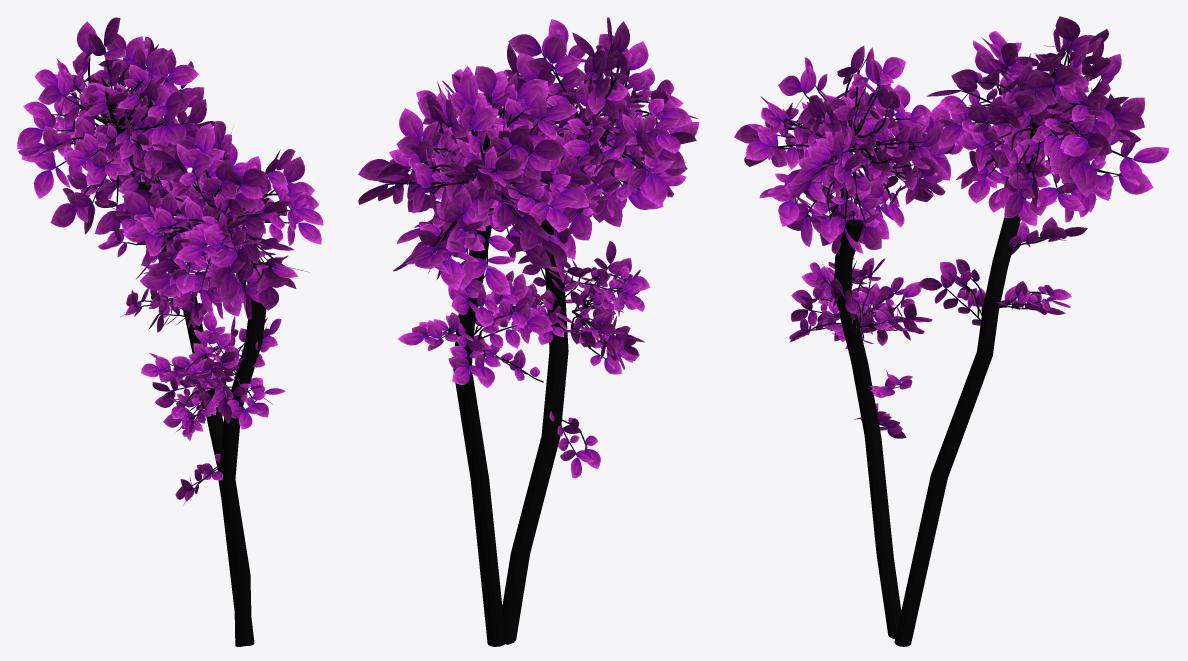
The model's file is purpletree15.fbx.
3 renders of one model, left to right at view 1: azimuth 30°, elevation 25°; view 2: azimuth 150°, elevation 25°; view 3: azimuth 270°, elevation 25°, orthographic. The views are drawn at different scales.
Visible parts, largest first — view 1: pCylinder1065; view 2: pCylinder1065; view 3: pCylinder1065.
Boxes of the visible parts, bbox=[...] form: pCylinder1065: bbox=[17, 17, 323, 646]; pCylinder1065: bbox=[358, 17, 699, 646]; pCylinder1065: bbox=[734, 16, 1169, 646].
Size of the model in its own units: 15.66 by 47.06 by 31.19.
